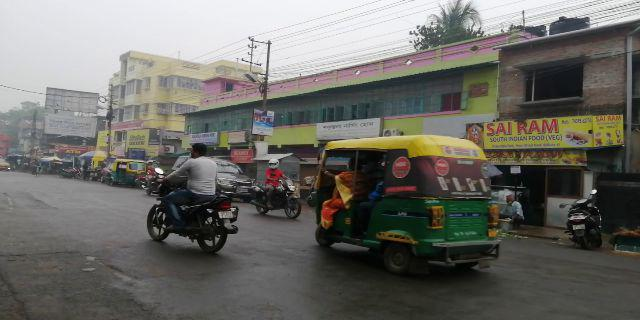Autorickshaw: (313, 134, 498, 273)
Motorbike: (143, 145, 237, 254), (253, 156, 305, 222)
